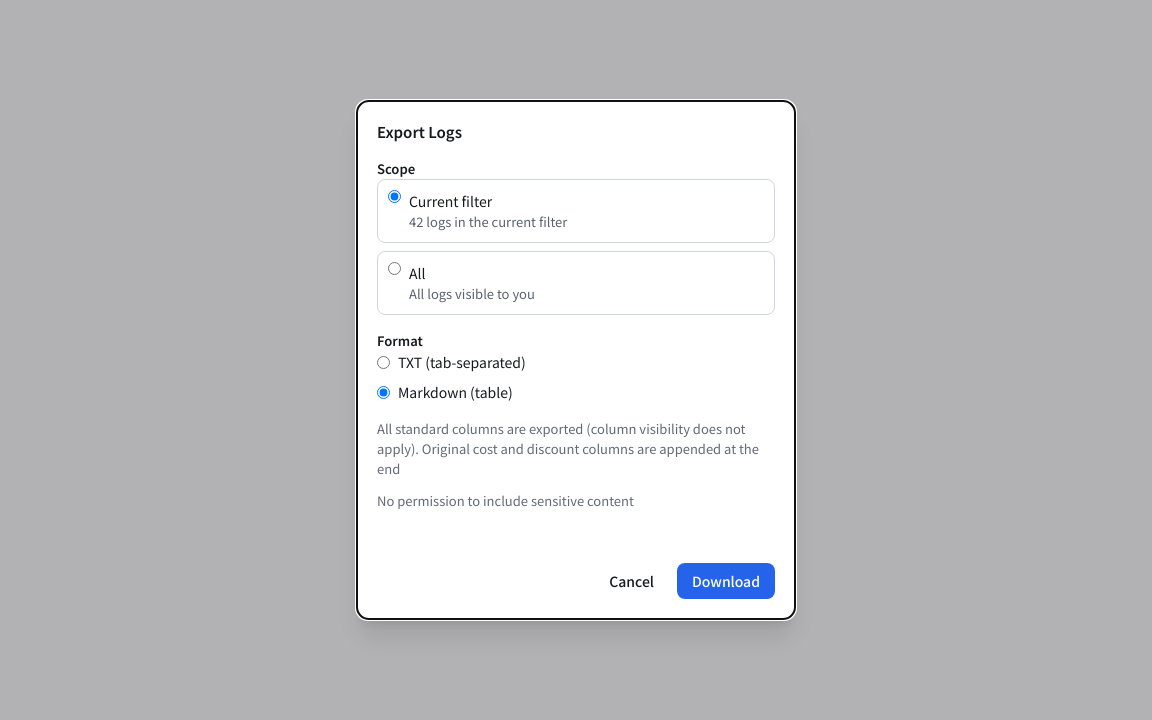
Test: ExportDialog (F-05-07) › shows the empty-range message on 204 instead of downloading a file
This screenshot has width=1152, height=720.
What coordinates should you click on to do the following:
click the button with test id "export-download"
I would click on:
 (726, 581)
Its box is [677,563,775,599].
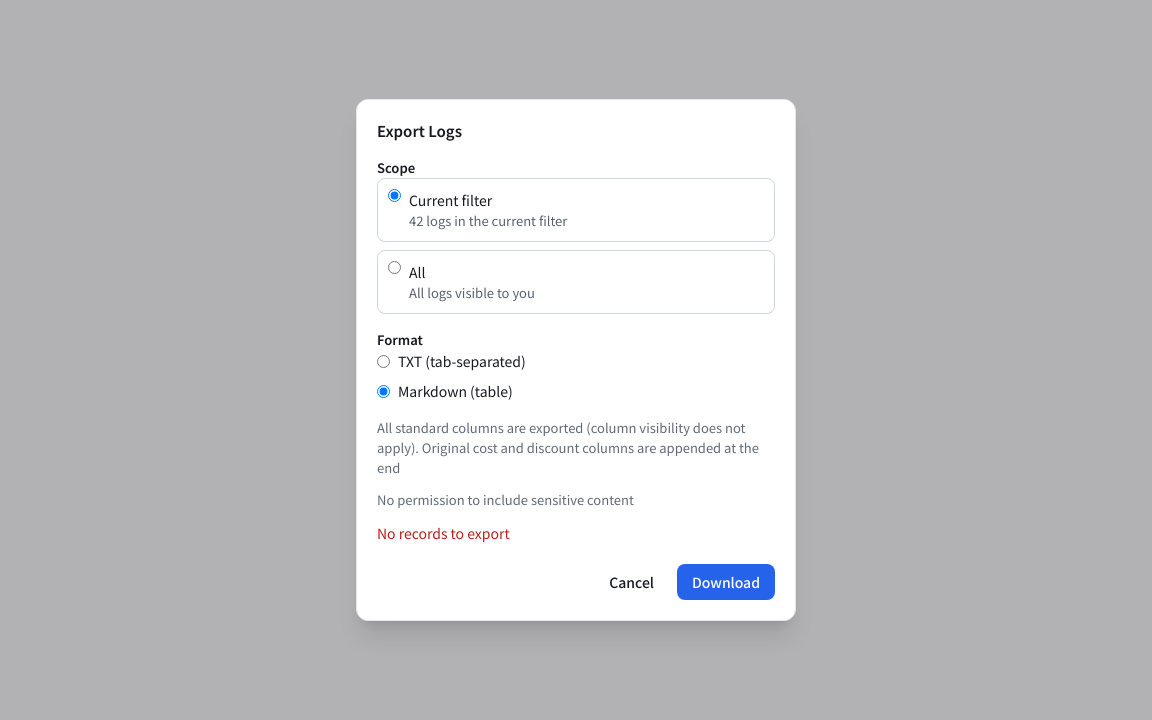
Check: the text "No records to export" is shown, box [377,523,510,543]
